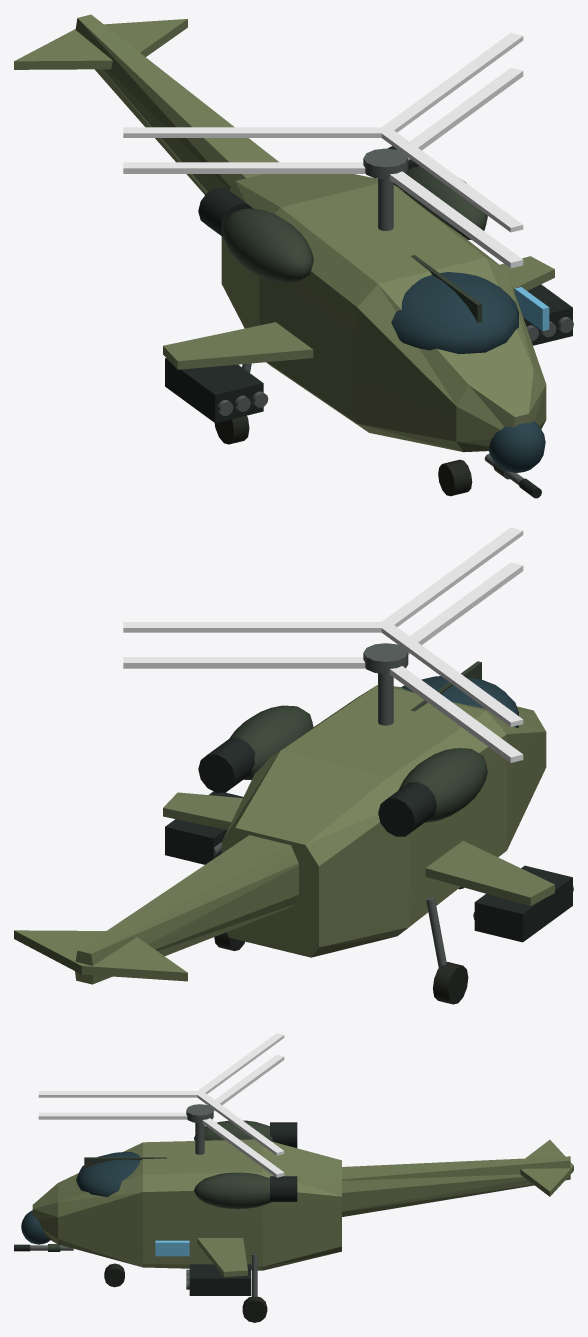
File: heli.glb
3 views of the same model, one above another, from view 1: azimuth 30°, elevation 25°; view 2: azimuth 150°, elevation 25°; view 3: azimuth 270°, elevation 25° (orthographic). The views are drawn at different scales.
Visible parts, largest first — view 1: armor, equipment (×4), glass, marking; view 2: armor, equipment (×4), glass; view 3: armor, equipment (×5), glass, marking.
Part boxes in pixels (x1=…): armor: x1=14, y1=14, x2=554, y2=452; equipment (×4): x1=123, y1=33, x2=573, y2=496; glass: x1=391, y1=272, x2=545, y2=472; marking: x1=514, y1=287, x2=549, y2=331; armor: x1=14, y1=685, x2=554, y2=984; equipment (×4): x1=123, y1=527, x2=573, y2=1004; glass: x1=401, y1=676, x2=518, y2=727; armor: x1=32, y1=1139, x2=573, y2=1277; equipment (×5): x1=14, y1=1033, x2=297, y2=1322; glass: x1=21, y1=1151, x2=140, y2=1244; marking: x1=155, y1=1240, x2=189, y2=1256.
Bounding box in the file's own units: 4.14 × 3.13 × 8.16.
